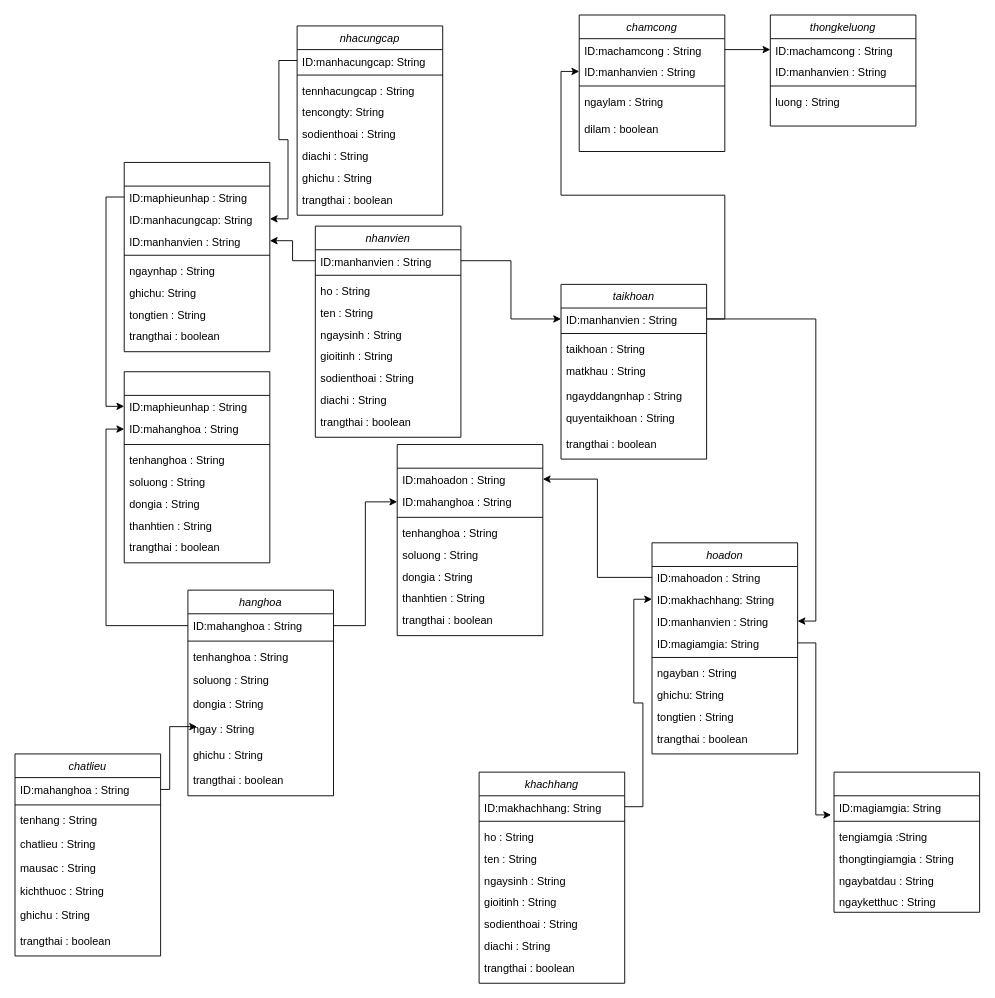
Some shapes in this 995 by 998 pixel diagram are drawn without their labels. The shapes that lost their labels are listed below. From the top down, each one's box as (x1, y1, x2, y2) in pixels, then its label:
(123, 162, 270, 352): nhaphang
(123, 371, 270, 563): chitietnhaphang
(396, 444, 543, 636): chitiethoadon
(833, 771, 980, 912): giảm giá
